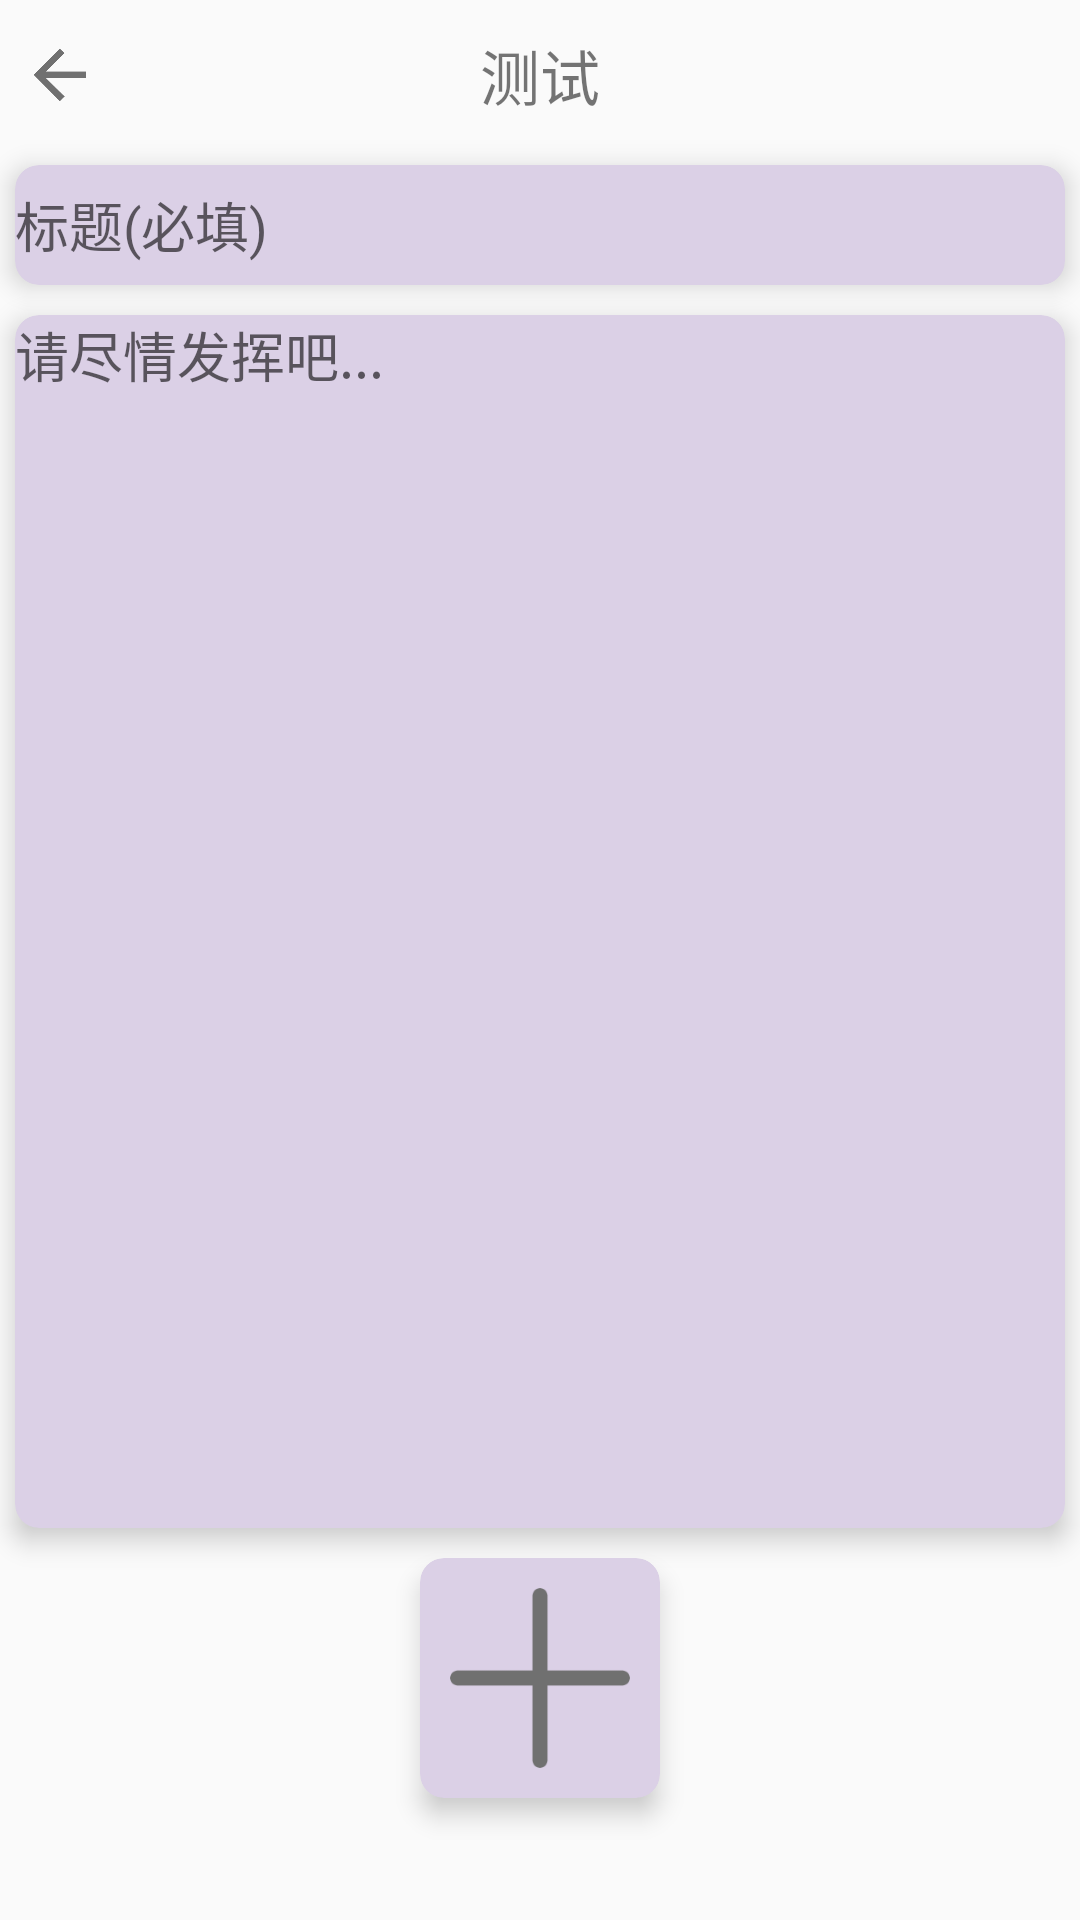

Screen size 1080x1920. Icon name, then its center in pixels as point (x, y):
back: point (60, 75)
select pic: point (540, 1678)
